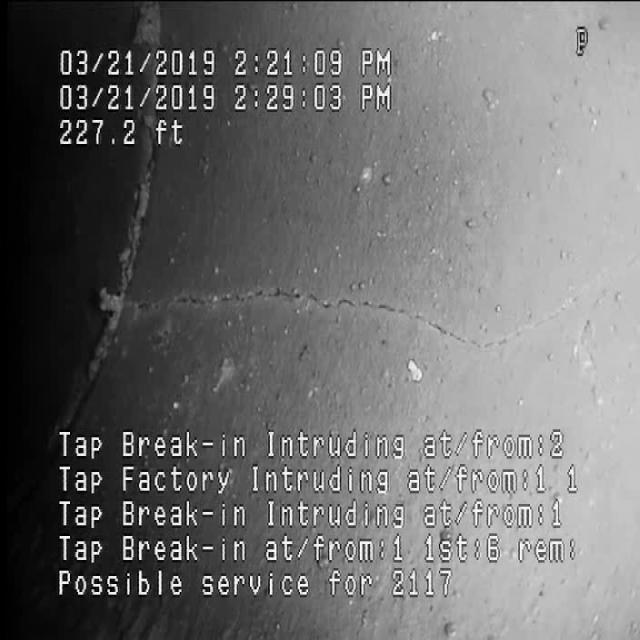Crack: (143, 226, 527, 372)
